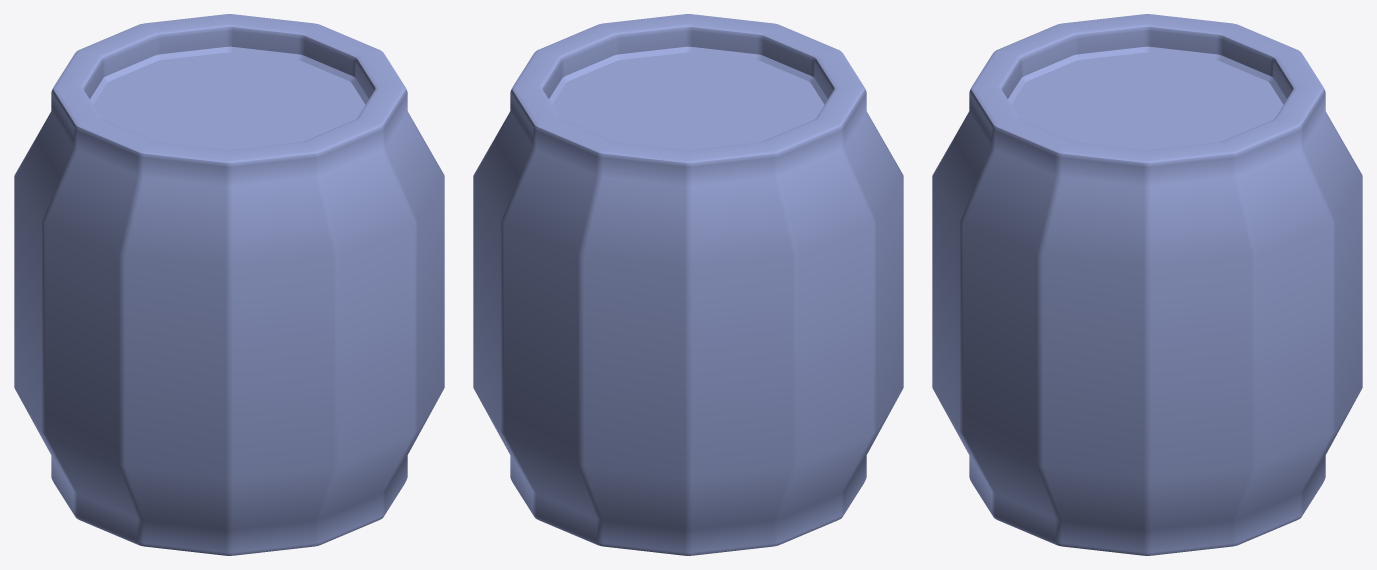
The model's file is Barril.fbx.
The picture shows the model from 3 angles, left to right: view 1: azimuth 30°, elevation 25°; view 2: azimuth 150°, elevation 25°; view 3: azimuth 270°, elevation 25°; orthographic projection.
Visible parts, largest first — view 1: Barril; view 2: Barril; view 3: Barril.
Boxes of the visible parts, bbox=[...] form: Barril: bbox=[14, 14, 444, 555]; Barril: bbox=[473, 14, 903, 555]; Barril: bbox=[932, 14, 1362, 555].
Bounding box in the file's own units: 98.59 × 100 × 98.59.
